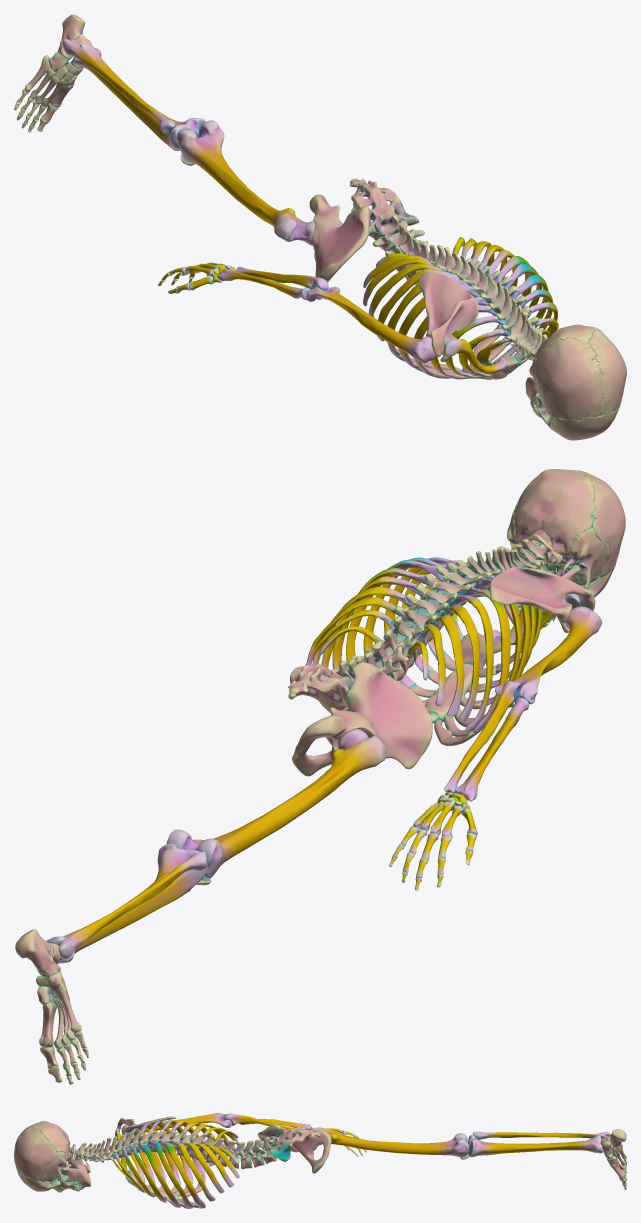
The model's file is body.glb.
The picture shows the model from 3 angles, top to bottom: view 1: azimuth 30°, elevation 25°; view 2: azimuth 150°, elevation 25°; view 3: azimuth 270°, elevation 25°; orthographic projection. The views are drawn at different scales.
Parts seen in each view (by area): view 1: skull, ribsTrue, femur, hip, foot, scapula, thoracic, ribsFalse, humerus, sacrum, tibia, fibula (+7 smaller); view 2: skull, hip, ribsTrue, femur, ribsFalse, thoracic, foot, scapula, hand, tibia, humerus, ribsFloating (+6 smaller); view 3: ribsTrue, skull, femur, thoracic, ribsFalse, tibia, hip, foot, sacrum, fibula, ribsFloating, mandible (+12 smaller).
Part boxes in pixels (x1,y1,x2,y2): skull: (529, 324, 626, 440); ribsTrue: (387, 256, 558, 377); femur: (176, 120, 314, 245); hip: (309, 194, 369, 281); foot: (14, 14, 92, 132); scapula: (418, 271, 478, 362); thoracic: (426, 244, 543, 341); ribsFalse: (363, 241, 518, 341); humerus: (306, 286, 436, 363); sacrum: (349, 178, 418, 240); tibia: (74, 43, 205, 150); fibula: (62, 39, 175, 134); skull: (507, 469, 625, 627); hip: (292, 662, 432, 776); ribsTrue: (332, 557, 542, 733); femur: (166, 729, 386, 878); ribsFalse: (307, 576, 493, 731); thoracic: (382, 549, 505, 674); foot: (15, 929, 89, 1084); scapula: (489, 566, 595, 632); hand: (389, 792, 477, 890); tibia: (46, 843, 207, 963); humerus: (495, 606, 602, 704); ribsFloating: (306, 610, 445, 706); ribsTrue: (109, 1120, 204, 1207); skull: (14, 1121, 79, 1192); femur: (312, 1127, 469, 1157); thoracic: (107, 1129, 224, 1164); ribsFalse: (167, 1121, 234, 1201); tibia: (468, 1135, 603, 1157); hip: (257, 1124, 331, 1173); foot: (600, 1129, 626, 1189); sacrum: (268, 1127, 320, 1161); fibula: (472, 1131, 610, 1139); ribsFloating: (199, 1127, 239, 1178); mandible: (61, 1159, 90, 1189).
Bounding box in the file's own units: 460 × 254 × 1707.
